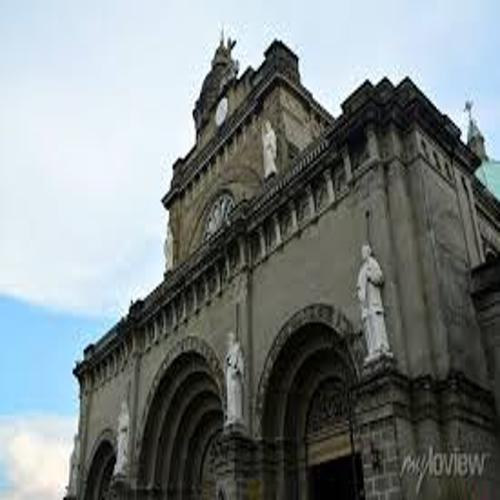Manila Cathedral Church: (28, 33, 496, 496)
